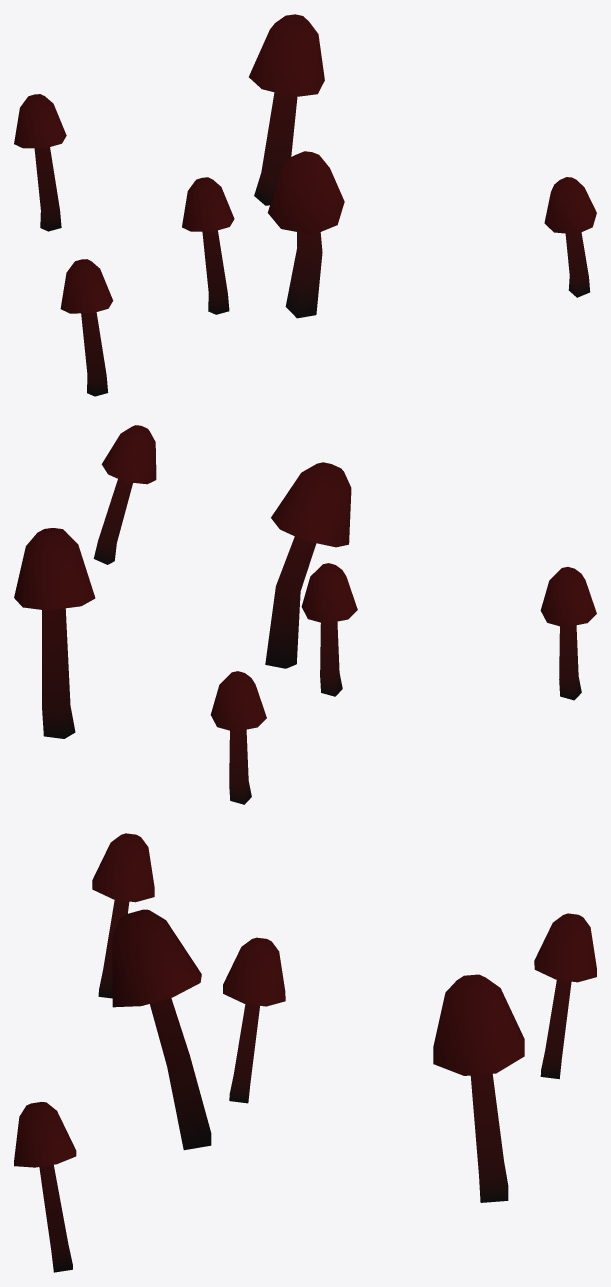
The model's file is SM_Mushroom_Group2.fbx.
The picture shows the model from 3 angles, top to bottom: view 1: azimuth 30°, elevation 25°; view 2: azimuth 150°, elevation 25°; view 3: azimuth 270°, elevation 25°; orthographic projection. The views are drawn at different scales.
Parts seen in each view (by area): view 1: Mushroom Group2; view 2: Mushroom Group2; view 3: Mushroom Group2.
Boxes of the visible parts, bbox=[...] form: Mushroom Group2: bbox=[14, 14, 596, 396]; Mushroom Group2: bbox=[14, 425, 596, 804]; Mushroom Group2: bbox=[14, 833, 596, 1272].
Bounding box in the file's own units: 0.6206 × 0.2226 × 0.5156.
